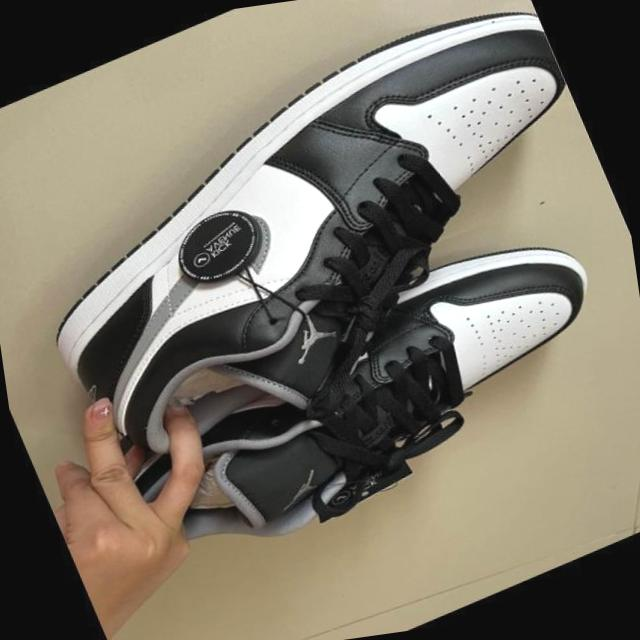nike_original_jordan: (0, 0, 640, 495), (73, 205, 640, 599)
